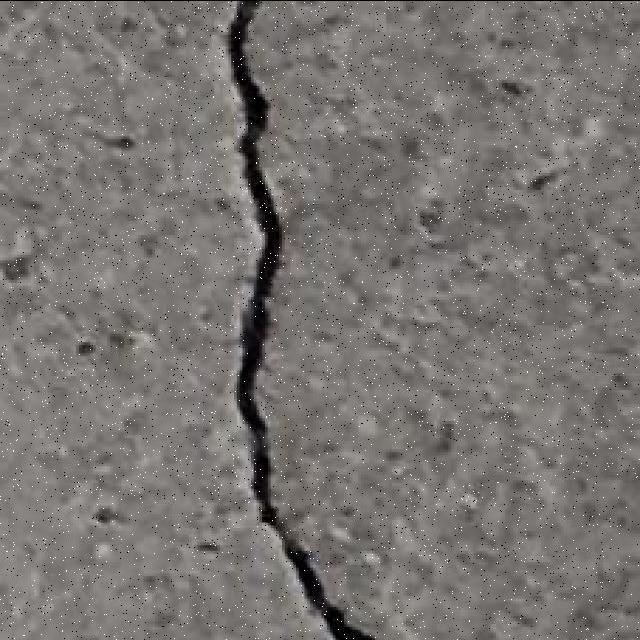crack: (225, 1, 376, 638)
